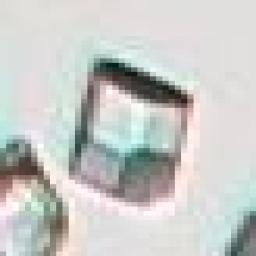crystals: (64, 57, 191, 218)
